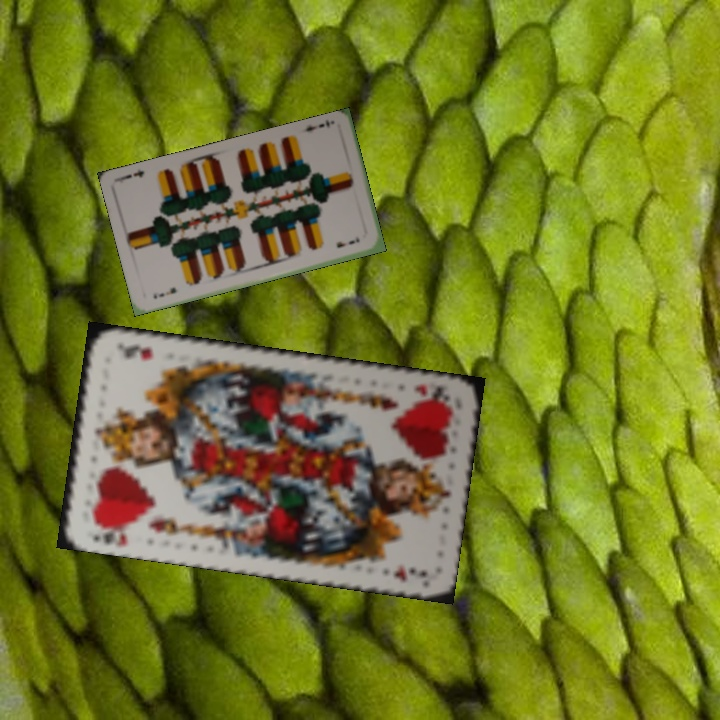E7: (297, 116, 332, 135), (149, 283, 179, 301)
HK: (89, 517, 130, 548), (409, 380, 453, 404)
